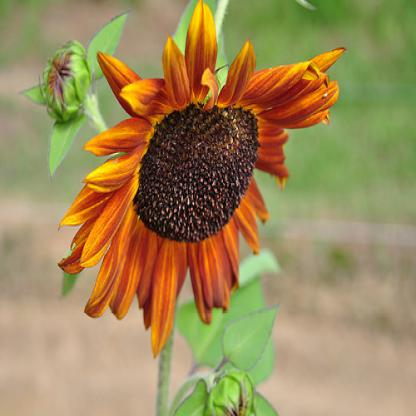SUN FLOWER: (68, 7, 346, 342)
